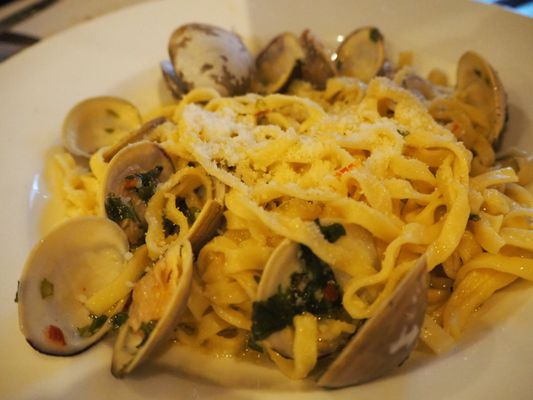curry: (2, 5, 533, 398)
